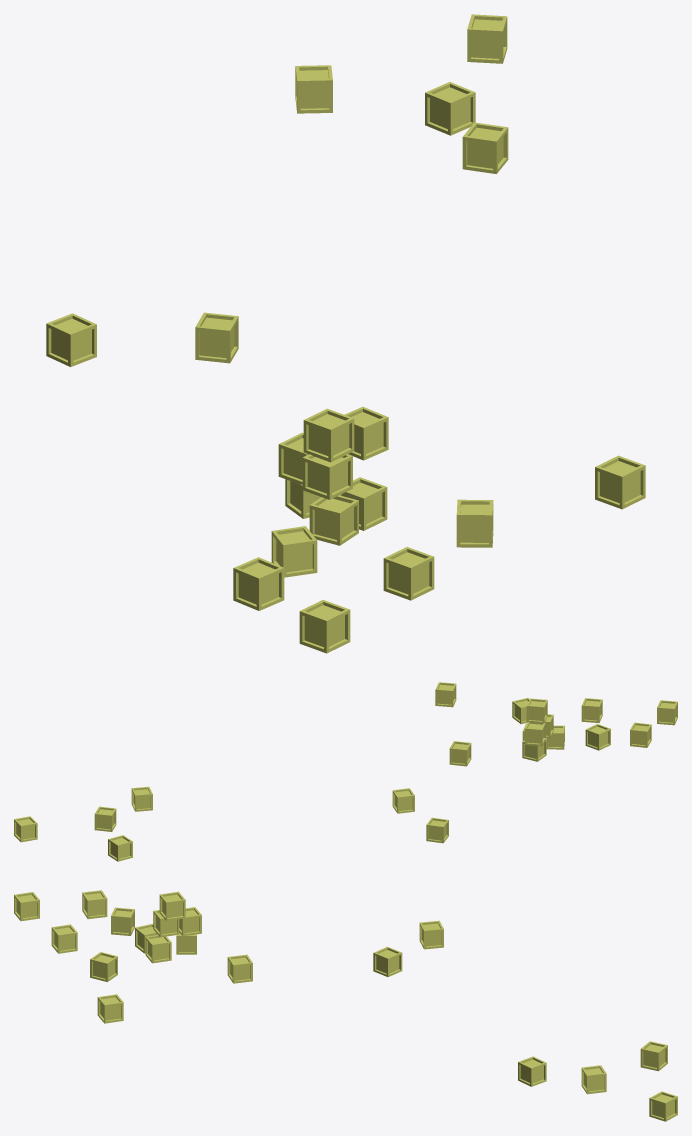
Rendered from cubes.fbx.
3 views of the same model, one above another, from view 1: azimuth 30°, elevation 25°; view 2: azimuth 150°, elevation 25°; view 3: azimuth 270°, elevation 25° (orthographic). The views are drawn at different scales.
Visible parts, largest first — view 1: Cube.012, Cube.011, Cube.003, Cube.008, Cube.000, Cube.013, Cube.016, Cube.009, Cube.015, Cube.010, Cube.001, Cube.004 (+6 smaller); view 2: Cube.010, Cube.014, Cube.018, Cube.002, Cube.001, Cube.000, Cube.016, Cube.011, Cube.015, Cube.013, Cube.003, Cube.008 (+5 smaller); view 3: Cube.001, Cube.018, Cube.015, Cube.014, Cube.007, Cube.003, Cube.013, Cube.008, Cube.012, Cube.011, Cube.006, Cube.002 (+7 smaller).
Boxes of the visible parts, <box> form: Cube.012: <box>299,600,350,653</box>; Cube.011: <box>233,557,284,610</box>; Cube.003: <box>303,408,354,462</box>; Cube.008: <box>383,547,434,600</box>; Cube.000: <box>46,313,96,366</box>; Cube.013: <box>595,455,645,509</box>; Cube.016: <box>425,82,475,135</box>; Cube.009: <box>309,495,358,545</box>; Cube.015: <box>462,122,508,173</box>; Cube.010: <box>271,526,317,577</box>; Cube.001: <box>195,312,238,363</box>; Cube.004: <box>302,454,352,499</box>; Cube.010: <box>585,724,610,750</box>; Cube.014: <box>108,835,132,861</box>; Cube.018: <box>14,816,37,842</box>; Cube.002: <box>449,741,471,766</box>; Cube.001: <box>392,788,414,813</box>; Cube.000: <box>426,817,448,843</box>; Cube.016: <box>94,806,116,831</box>; Cube.011: <box>630,722,651,747</box>; Cube.015: <box>131,786,152,811</box>; Cube.013: <box>435,682,456,707</box>; Cube.003: <box>526,698,547,723</box>; Cube.008: <box>581,698,602,722</box>; Cube.001: <box>373,946,402,976</box>; Cube.018: <box>649,1091,677,1121</box>; Cube.015: <box>518,1056,546,1086</box>; Cube.014: <box>640,1041,667,1071</box>; Cube.007: <box>90,952,117,981</box>; Cube.003: <box>159,891,185,920</box>; Cube.013: <box>97,994,123,1023</box>; Cube.008: <box>51,924,77,953</box>; Cube.012: <box>14,892,39,921</box>; Cube.011: <box>82,890,107,919</box>; Cube.006: <box>145,935,171,963</box>; Cube.002: <box>227,954,252,983</box>.
Bounding box in the file's own units: 1446 × 176 × 1901.
